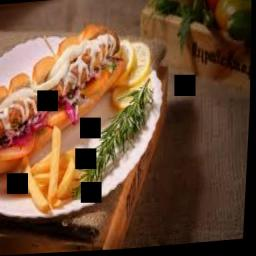hotdog: (0, 18, 128, 150)
